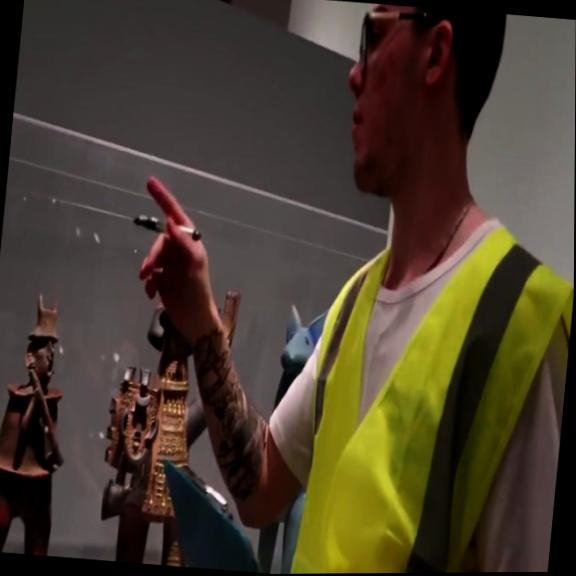safety_vest: (288, 203, 574, 574)
